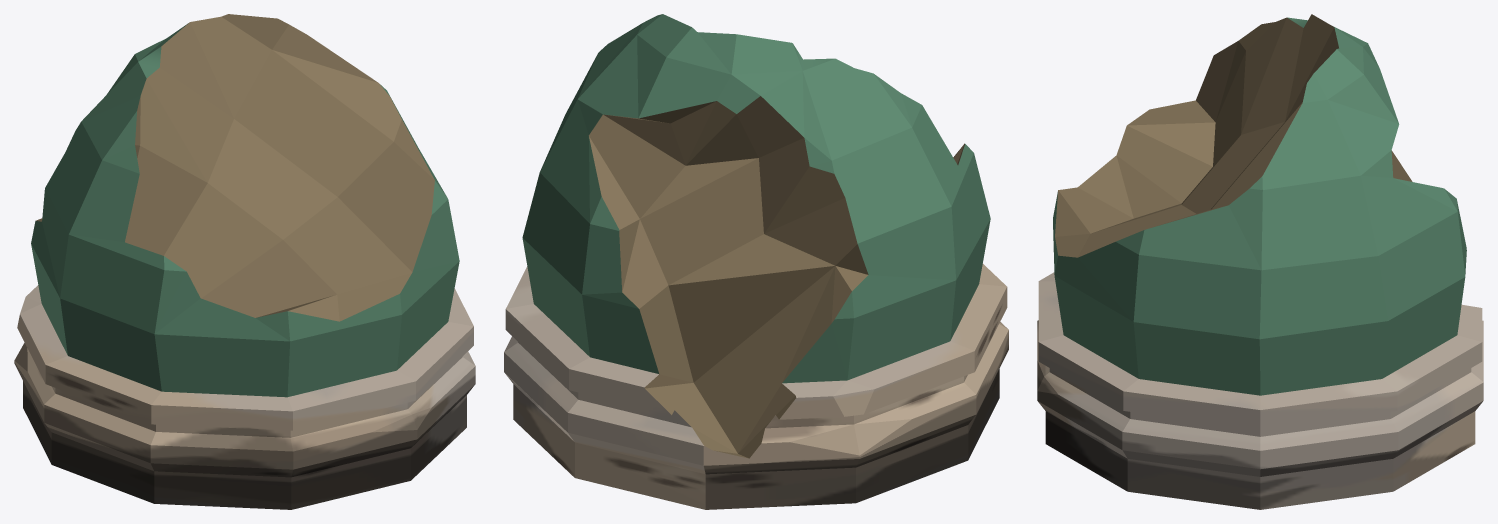
Rendered from SM_Bld_Roof_Cap_Destroyed_03.fbx.
3 renders of one model, left to right at view 1: azimuth 30°, elevation 25°; view 2: azimuth 150°, elevation 25°; view 3: azimuth 270°, elevation 25°, orthographic. The views are drawn at different scales.
Parts seen in each view (by area): view 1: SM_Bld_Roof_Cap_Destroyed_03; view 2: SM_Bld_Roof_Cap_Destroyed_03; view 3: SM_Bld_Roof_Cap_Destroyed_03.
Boxes of the visible parts, box(x1,y1,x2,y2) form: SM_Bld_Roof_Cap_Destroyed_03: box(14, 14, 475, 509); SM_Bld_Roof_Cap_Destroyed_03: box(504, 14, 1008, 509); SM_Bld_Roof_Cap_Destroyed_03: box(1037, 14, 1483, 509).
Bounding box in the file's own units: 254 × 226 × 242.
